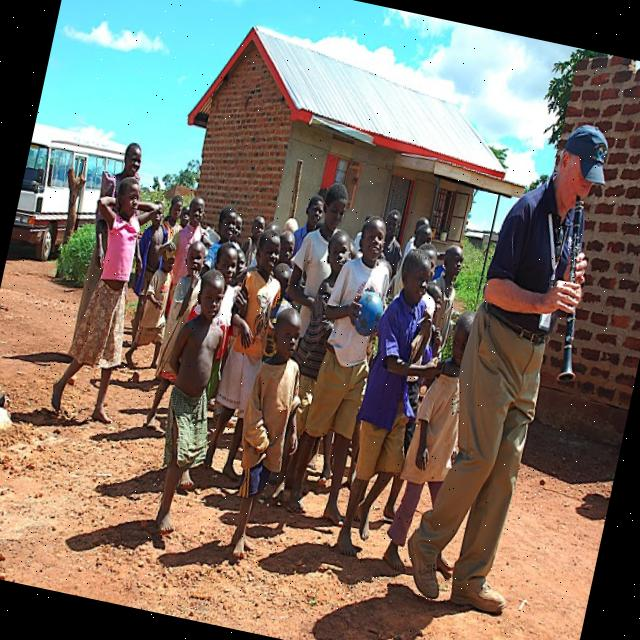clarinet: (535, 190, 614, 389)
